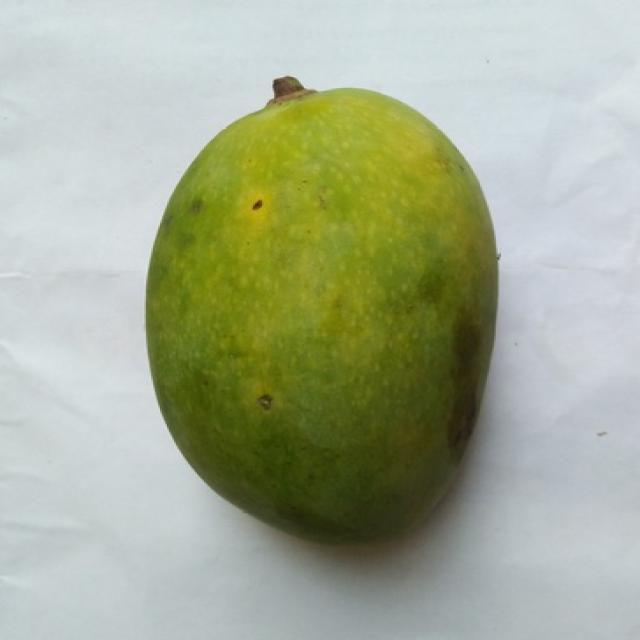Mango: (146, 78, 498, 541)
